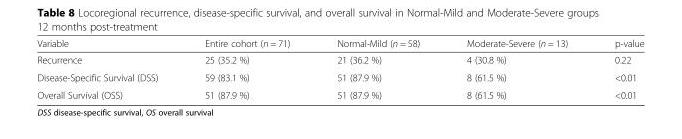table: (36, 37, 643, 100)
table column: (442, 37, 590, 100), (36, 37, 180, 100), (180, 37, 312, 100), (312, 37, 442, 100), (590, 37, 643, 100)
table column header: (36, 37, 643, 51)
table row: (36, 51, 643, 68), (36, 68, 643, 85), (36, 85, 643, 100), (36, 37, 643, 51)
